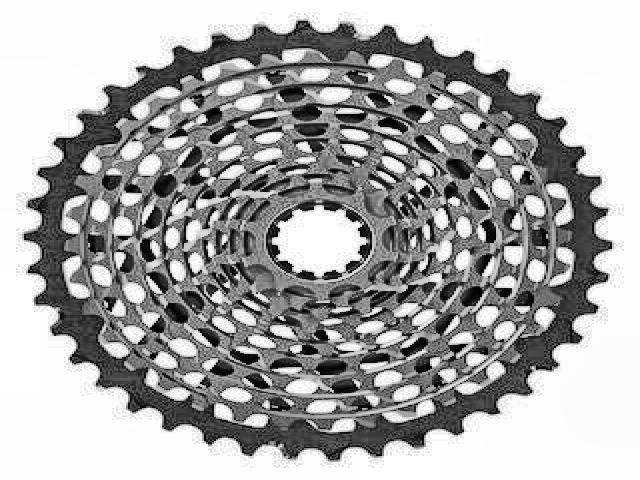cassette: (20, 18, 616, 463)
